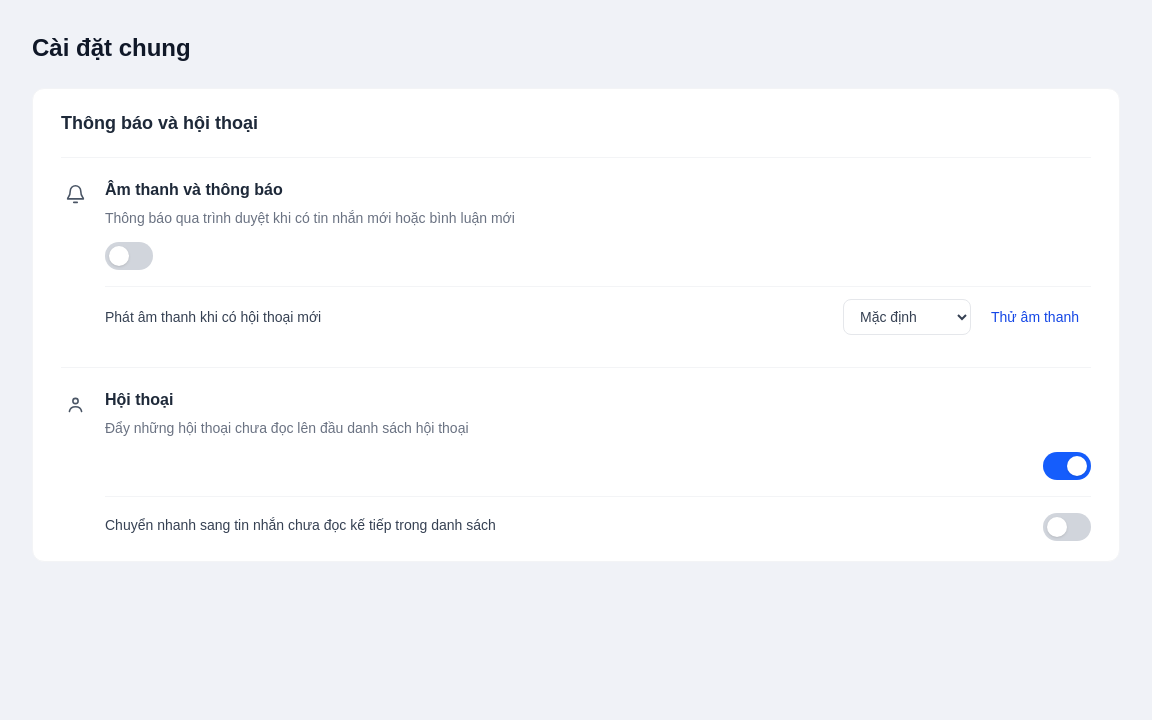
Test case: GeneralSettingsPanel › explains when the browser cannot start the notification sound preview
Click the button "Thử âm thanh": (1035, 317) x1=979 y1=299 x2=1091 y2=335
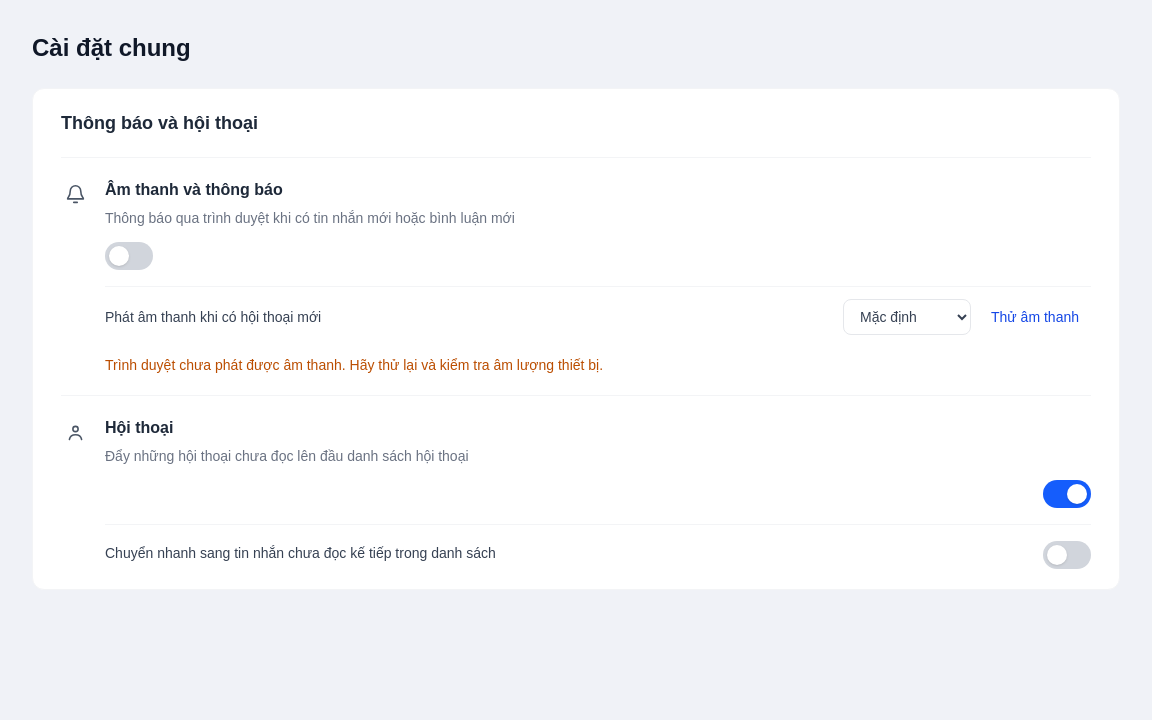
Result: the text "Trình duyệt chưa phát được âm thanh" is shown at x1=105 y1=357 x2=603 y2=373
